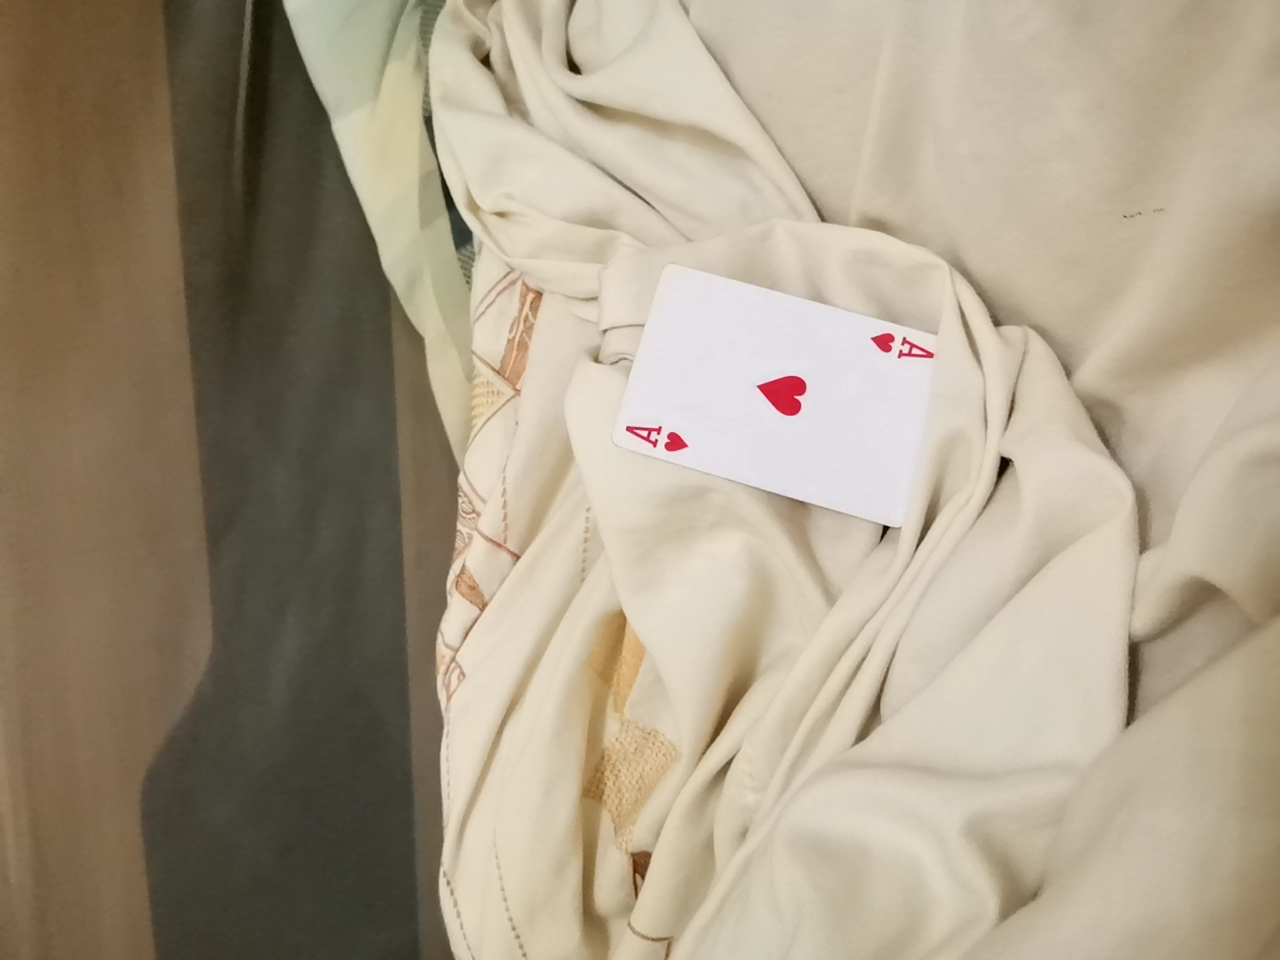hx a: (621, 289, 956, 523)
